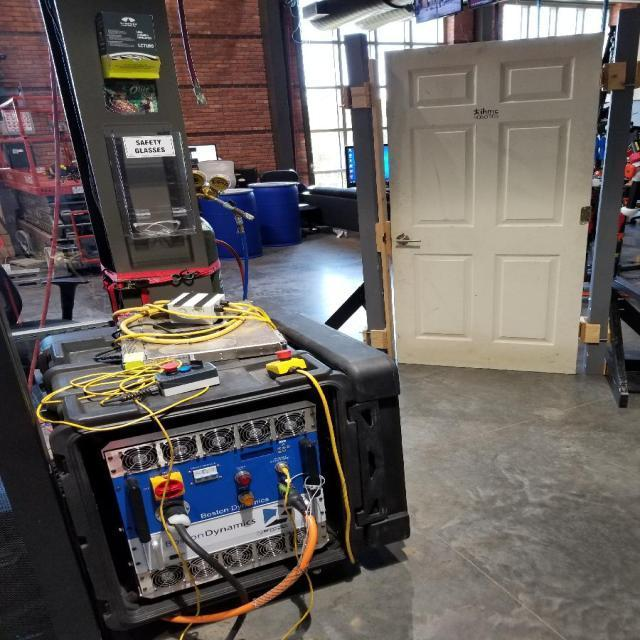door: (380, 32, 606, 375), (393, 233, 422, 248)
